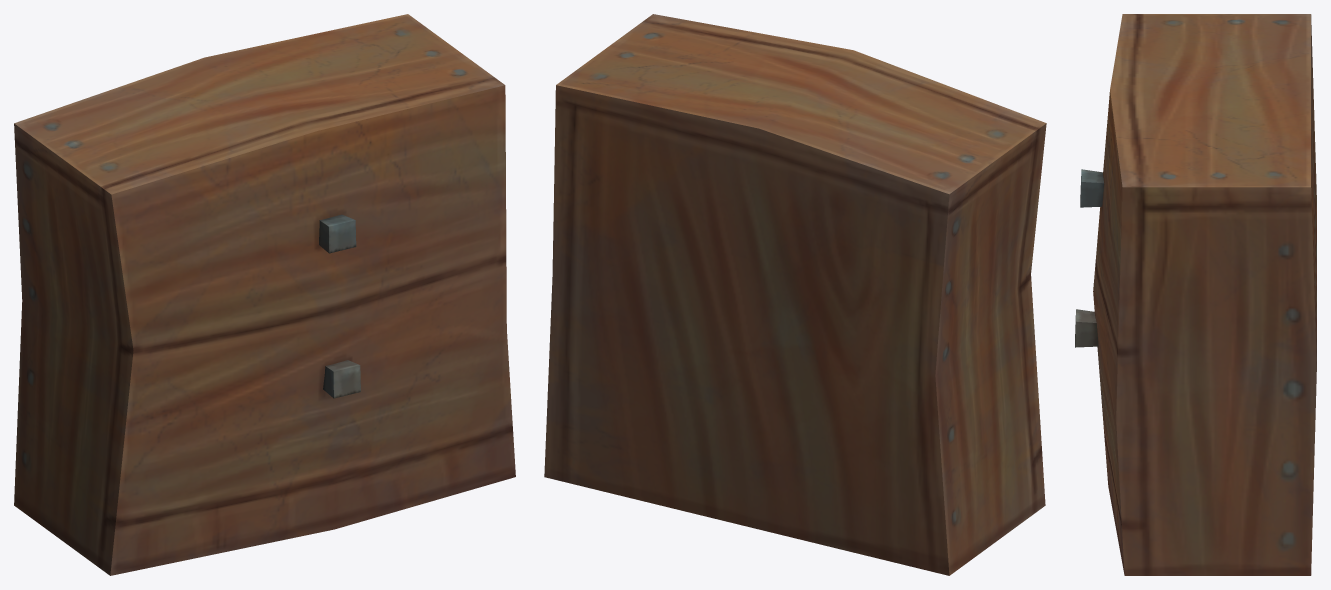
Rendered from furnitureSet_cupboard_3.FBX.
The picture shows the model from 3 angles, left to right: view 1: azimuth 30°, elevation 25°; view 2: azimuth 150°, elevation 25°; view 3: azimuth 270°, elevation 25°; orthographic projection. The views are drawn at different scales.
Parts seen in each view (by area): view 1: furnitureSet_cupboard_3; view 2: furnitureSet_cupboard_3; view 3: furnitureSet_cupboard_3.
Part boxes in pixels (box(x1,y1,x2,y2)): furnitureSet_cupboard_3: box(14, 14, 515, 575); furnitureSet_cupboard_3: box(544, 14, 1046, 575); furnitureSet_cupboard_3: box(1075, 14, 1316, 575).
Bounding box in the file's own units: 85.81 × 81.22 × 45.71.
Materials: 1 (1 with a texture image).
